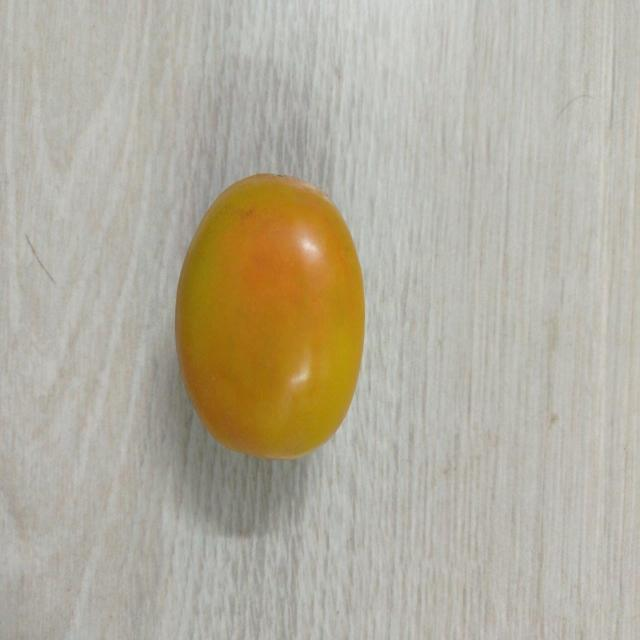Tomato: (175, 171, 367, 463)
